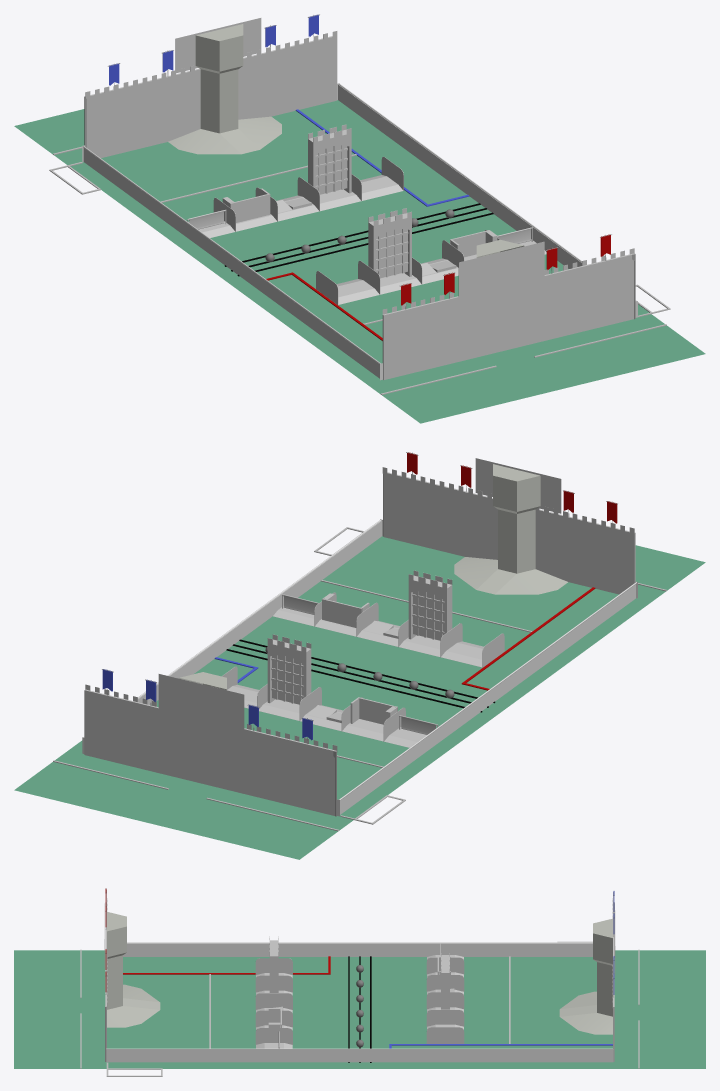
The model's file is arenaModel.fbx.
3 views of the same model, one above another, from view 1: azimuth 30°, elevation 25°; view 2: azimuth 150°, elevation 25°; view 3: azimuth 270°, elevation 25° (orthographic). The views are drawn at different scales.
Parts seen in each view (by area): view 1: pPlane1, pCube2 (×2), pCube17 (×2), pCylinder11, pCube23, pCube16 (×2), pCube24 (×2), pCube22, pCube49 (×2), pCube36 (×2), pCube33, pCube50; view 2: pPlane1, pCube2 (×2), pCube17 (×2), pCylinder11, pCube23, pCube24 (×2), pCube16 (×2), pCube22, pCube49 (×2), pCube36 (×2), pCube33 (×2), pCube50; view 3: pPlane1, pCube22, pCube23, pCylinder11 (×2), pCube50 (×2), pCube29 (×2), pCube28 (×2), pCube27 (×2), pCube25 (×2), pCube36 (×2), pCube24 (×2), pCube26 (×2).
Boxes of the visible parts, x1,y1,x2,y2 form: pPlane1: [14, 100, 705, 423]; pCube2 (×2): [86, 68, 634, 351]; pCube17 (×2): [238, 36, 500, 380]; pCylinder11: [168, 24, 281, 154]; pCube23: [82, 145, 382, 380]; pCube16 (×2): [175, 18, 544, 297]; pCube24 (×2): [188, 175, 546, 304]; pCube22: [337, 83, 637, 317]; pCube49 (×2): [315, 145, 408, 278]; pCube36 (×2): [308, 129, 411, 276]; pCube33: [229, 193, 270, 222]; pCube50: [160, 109, 469, 206]; pPlane1: [14, 536, 705, 859]; pCube2 (×2): [202, 472, 497, 815]; pCube17 (×2): [84, 509, 635, 783]; pCylinder11: [454, 464, 567, 594]; pCube23: [337, 581, 637, 816]; pCube24 (×2): [227, 606, 483, 747]; pCube16 (×2): [158, 458, 561, 729]; pCube22: [82, 519, 382, 753]; pCube49 (×2): [271, 591, 444, 704]; pCube36 (×2): [267, 575, 452, 703]; pCube33 (×2): [322, 598, 397, 724]; pCube50: [320, 580, 595, 690]; pPlane1: [14, 950, 705, 1068]; pCube22: [106, 1048, 613, 1062]; pCube23: [123, 942, 592, 956]; pCylinder11 (×2): [107, 912, 612, 1034]; pCube50 (×2): [123, 956, 612, 1048]; pCube29 (×2): [255, 958, 464, 1043]; pCube28 (×2): [255, 975, 464, 1026]; pCube27 (×2): [255, 992, 464, 1009]; pCube25 (×2): [255, 957, 464, 1044]; pCube36 (×2): [269, 940, 449, 1009]; pCube24 (×2): [256, 955, 463, 1048]; pCube26 (×2): [255, 975, 464, 1027].
Bounding box in the file's own units: 1037 × 306 × 2256.
